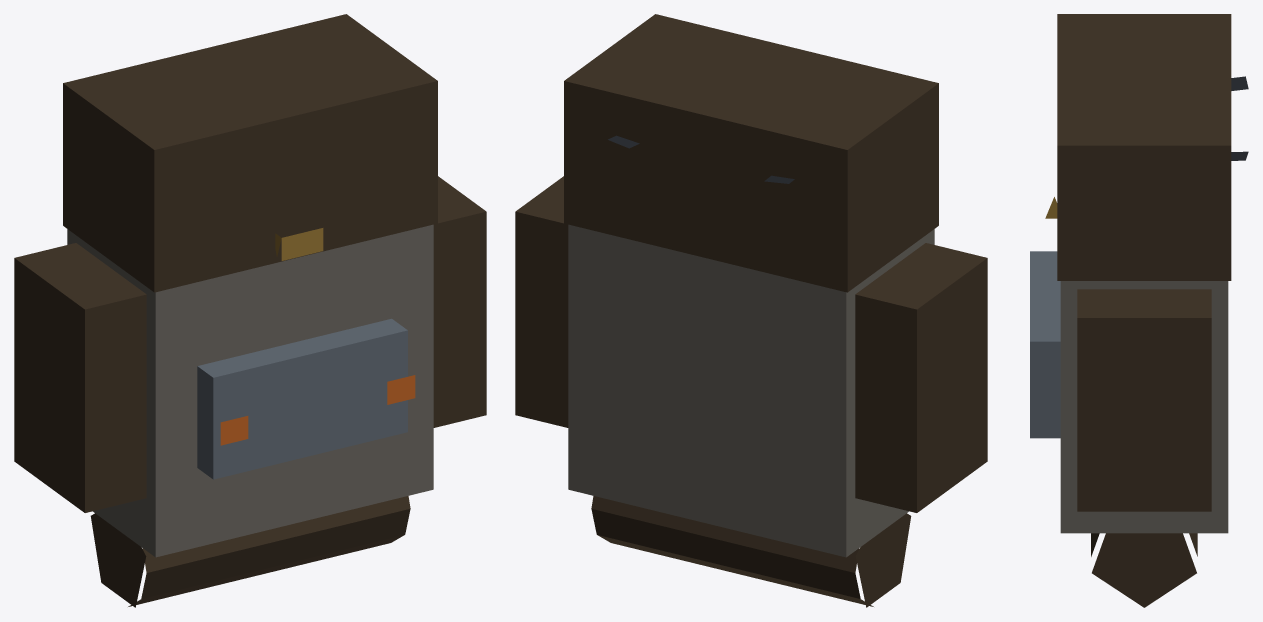
Rendered from smugglepack.lod.glb.
The picture shows the model from 3 angles, left to right: view 1: azimuth 30°, elevation 25°; view 2: azimuth 150°, elevation 25°; view 3: azimuth 270°, elevation 25°; orthographic projection. The views are drawn at different scales.
Parts seen in each view (by area): view 1: m; view 2: m; view 3: m.
Boxes of the visible parts, x1=… form: m: x1=14, y1=14, x2=486, y2=607; m: x1=515, y1=14, x2=987, y2=607; m: x1=1030, y1=14, x2=1248, y2=607.
Bounding box in the file's own units: 0.2936 × 0.3432 × 0.1548.
